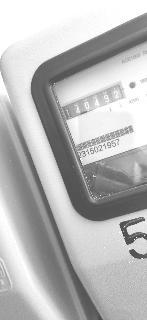1: (84, 101, 90, 109)
2: (66, 109, 71, 117)
3: (114, 90, 120, 99)
5: (75, 106, 81, 114), (94, 99, 100, 107)
object: (104, 95, 110, 103)
